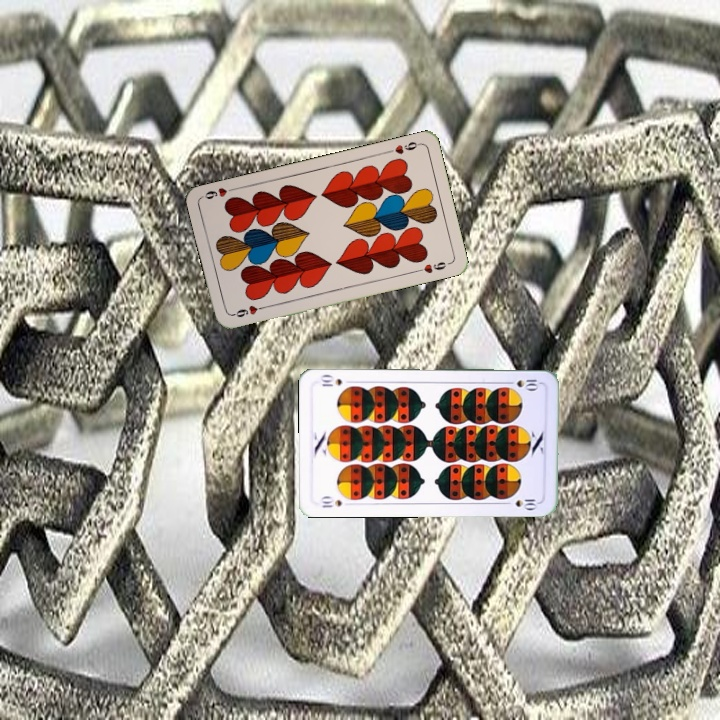H9: (383, 137, 423, 157), (228, 301, 269, 320)
S10: (502, 375, 542, 391), (317, 493, 344, 510)
